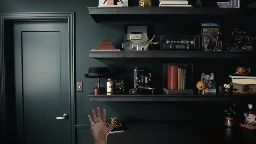Mano_aperta: (85, 105, 114, 140)
